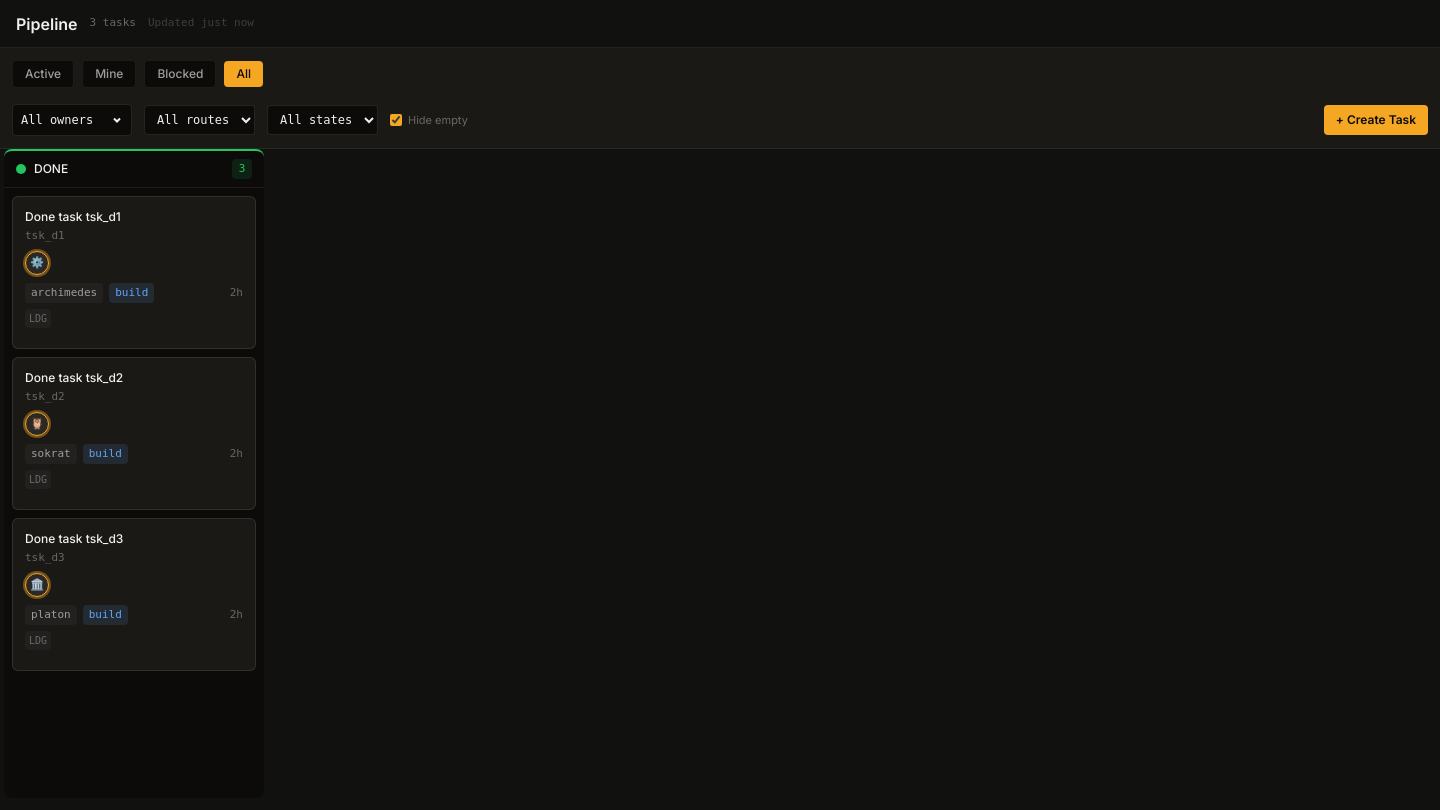
Test case: Pipeline — filtered-empty state (#148) › "Show all tasks" reveals hidden tasks
Click the button "Active" at (43, 74), box top-left (12, 60), bottom-right (74, 88)
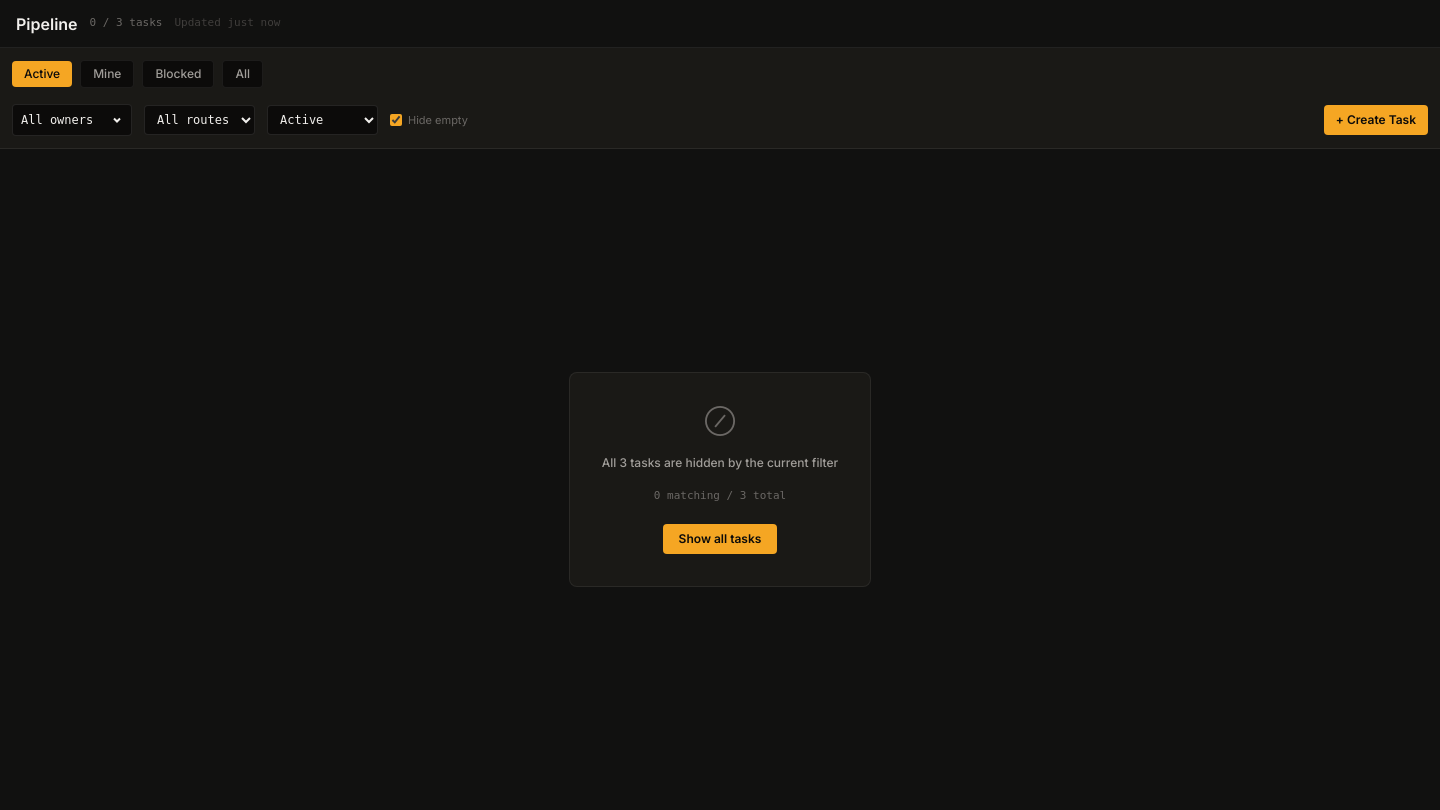
Now the element with test id "filtered-empty-state" is shown, box top-left (569, 372), bottom-right (871, 587)
Click the button "Show all tasks" at (720, 539), box top-left (663, 524), bottom-right (777, 554)
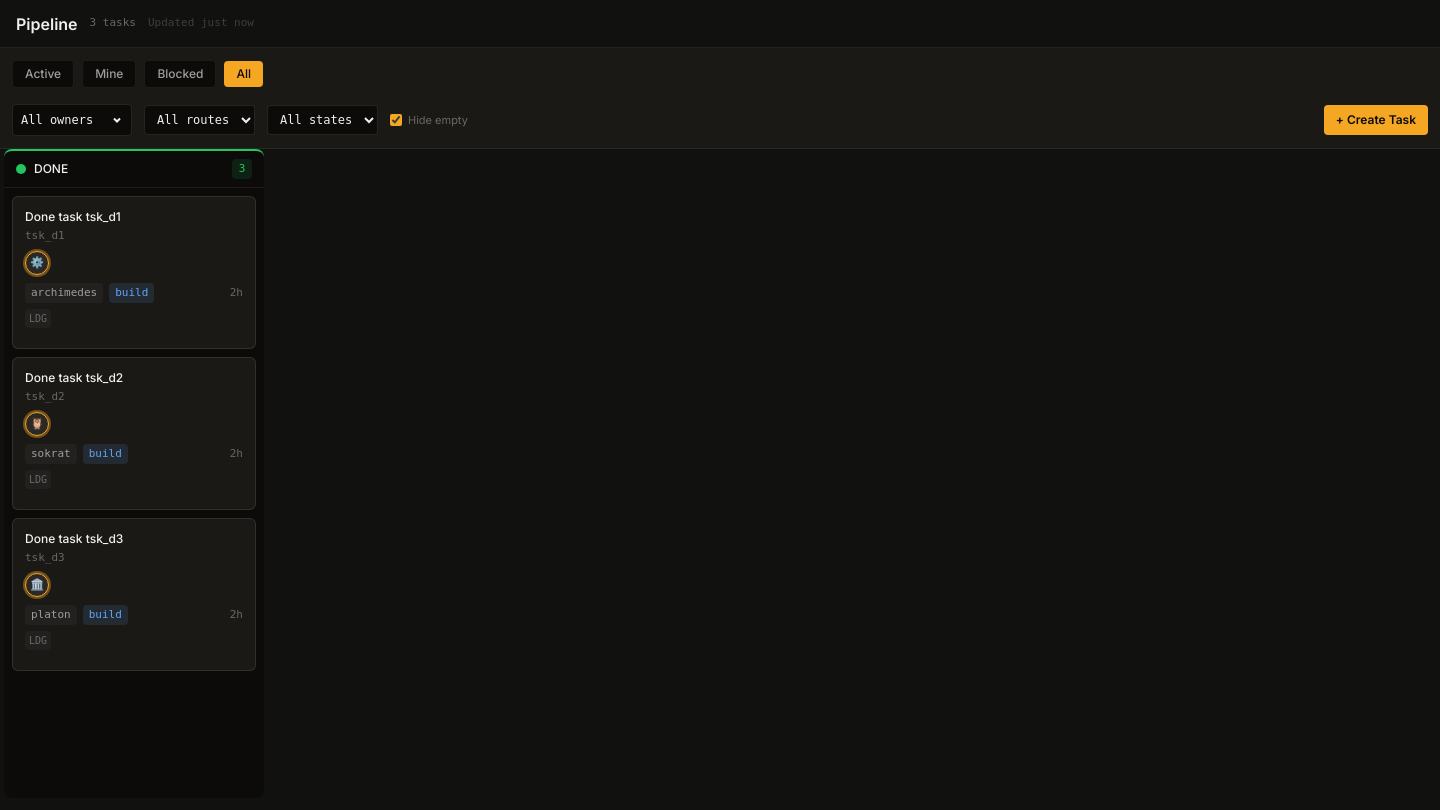
Expected: the text "3 tasks" is shown, top-left (90, 15), bottom-right (136, 32)
Now the element with test id "filtered-empty-state" is gone
Now the text "Done task tsk_d1" is shown, box top-left (25, 209), bottom-right (121, 224)
